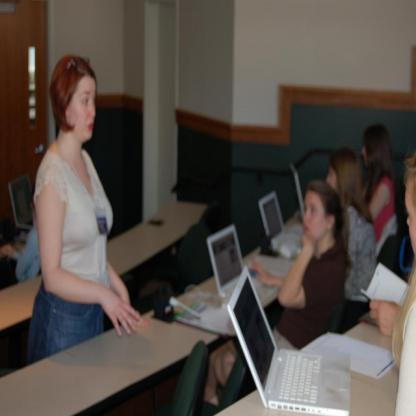board: (226, 265, 352, 416), (206, 224, 277, 305), (258, 189, 303, 256), (8, 172, 34, 230), (290, 162, 305, 214)
